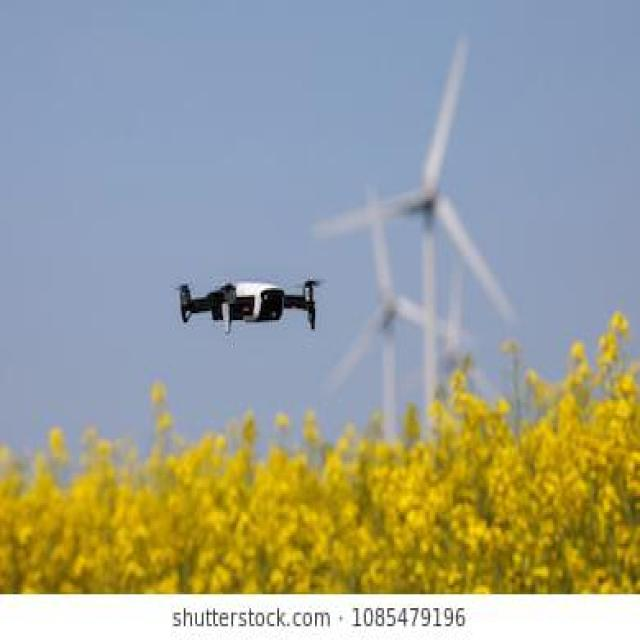drone: (154, 215, 342, 370)
